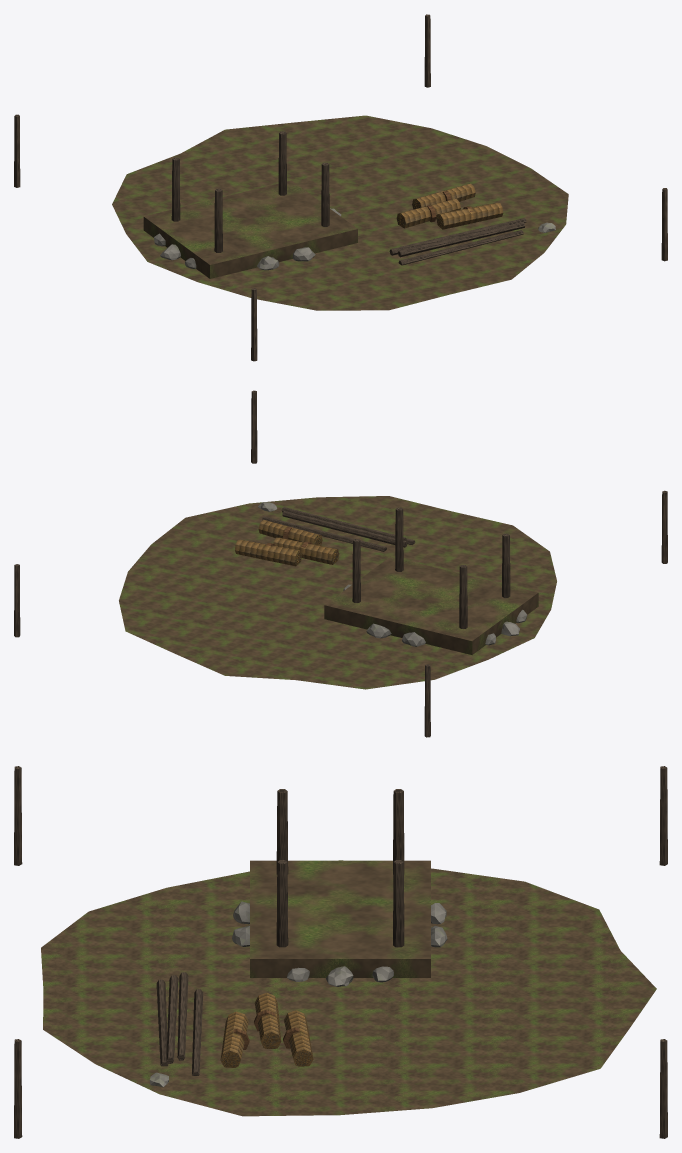
Rendered from cantiere_santuario.glb.
The picture shows the model from 3 angles, top to bottom: view 1: azimuth 30°, elevation 25°; view 2: azimuth 150°, elevation 25°; view 3: azimuth 270°, elevation 25°; orthographic projection. The views are drawn at different scales.
Visible parts, largest first — view 1: cantiere_santuario; view 2: cantiere_santuario; view 3: cantiere_santuario.
Part boxes in pixels (x1,y1,x2,y2): cantiere_santuario: [14, 14, 667, 361]; cantiere_santuario: [14, 390, 667, 737]; cantiere_santuario: [14, 766, 667, 1138].
Size of the model in its own units: 10.13 by 1.95 by 10.13.
5 materials, 5 textured.
